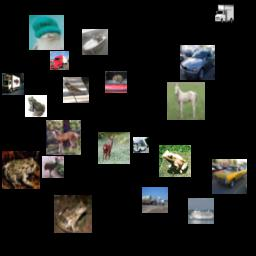automobile: (212, 159, 247, 194), (180, 45, 215, 80)
bird: (63, 77, 89, 103), (42, 156, 64, 178)
cat: (29, 15, 64, 50), (105, 71, 127, 93)
deer: (46, 120, 81, 155), (98, 132, 130, 164)
frog: (2, 151, 40, 189), (54, 195, 92, 233), (159, 145, 191, 177), (25, 95, 47, 117)
ship: (188, 198, 214, 224), (82, 29, 108, 55)
truck: (142, 187, 168, 213), (2, 73, 24, 95), (50, 51, 69, 70), (215, 4, 234, 23), (133, 137, 149, 153)
